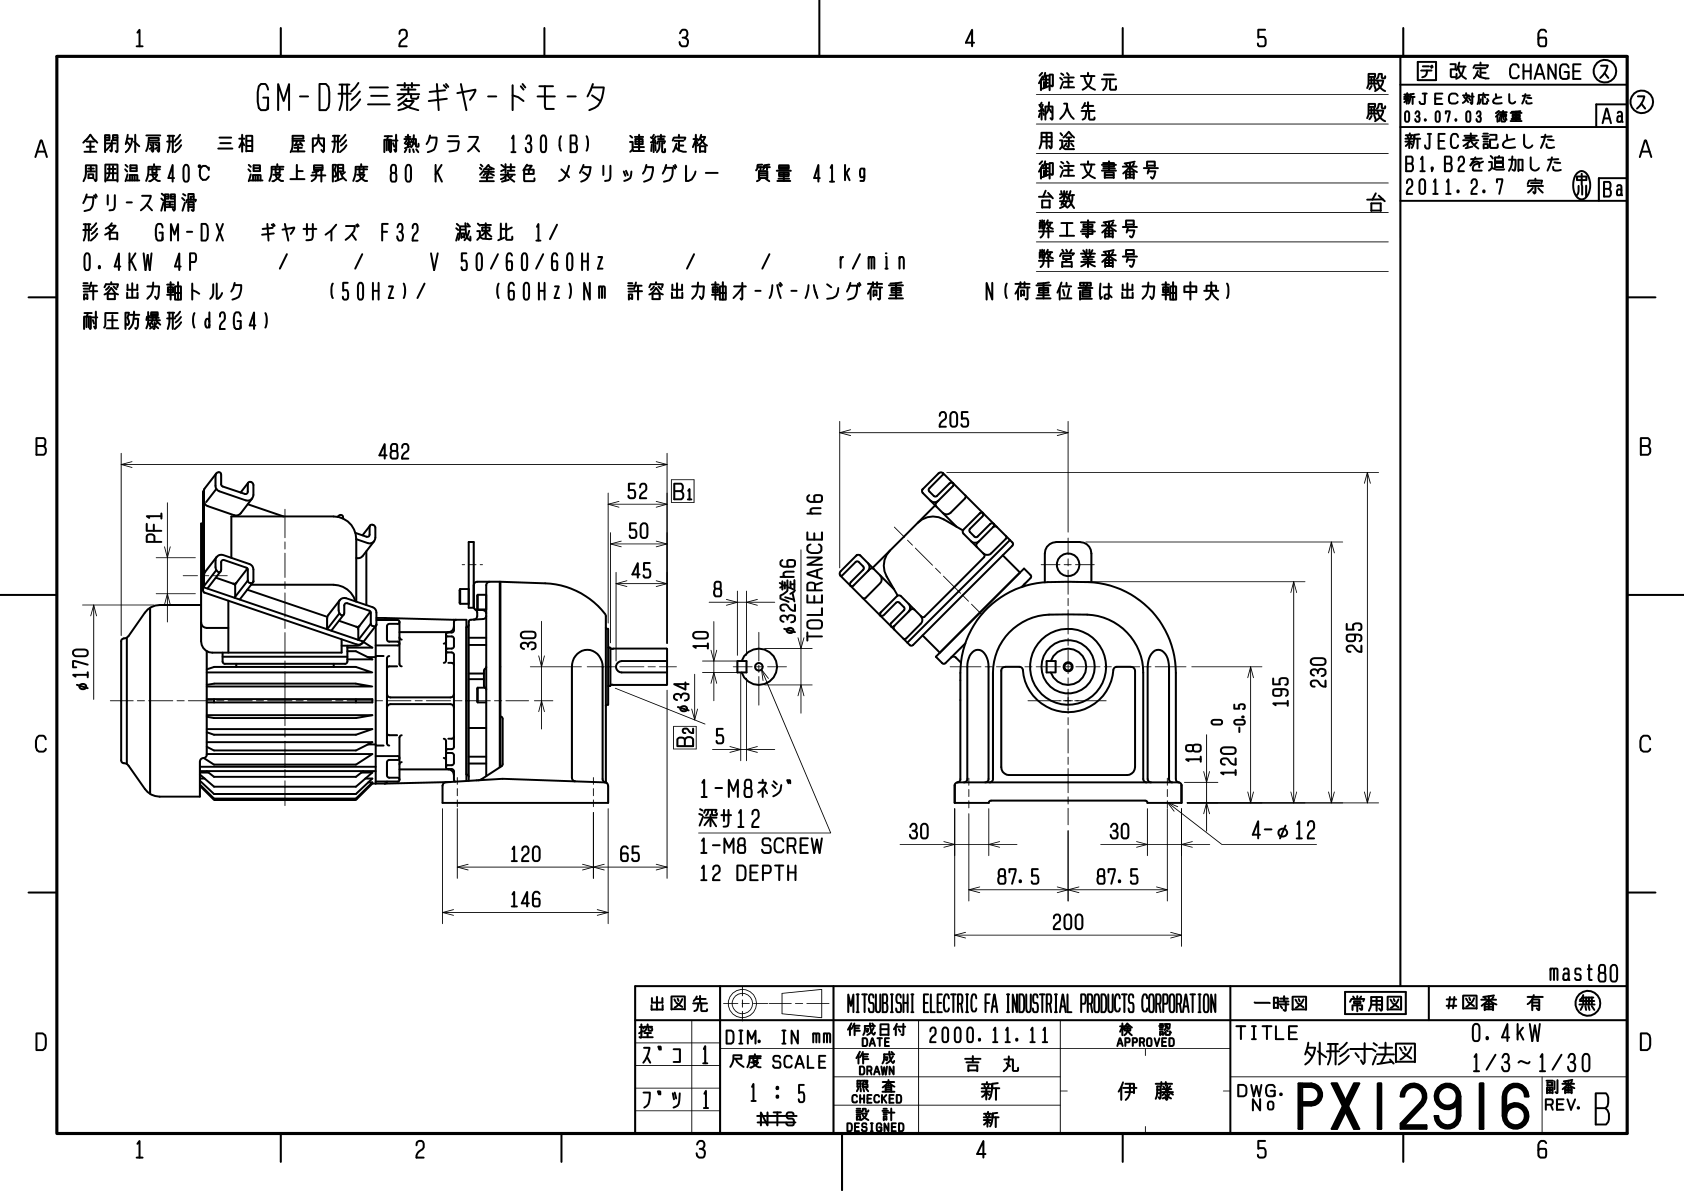GM_D_耐圧屋内_三相_脚: (15, 6, 1684, 1191)
